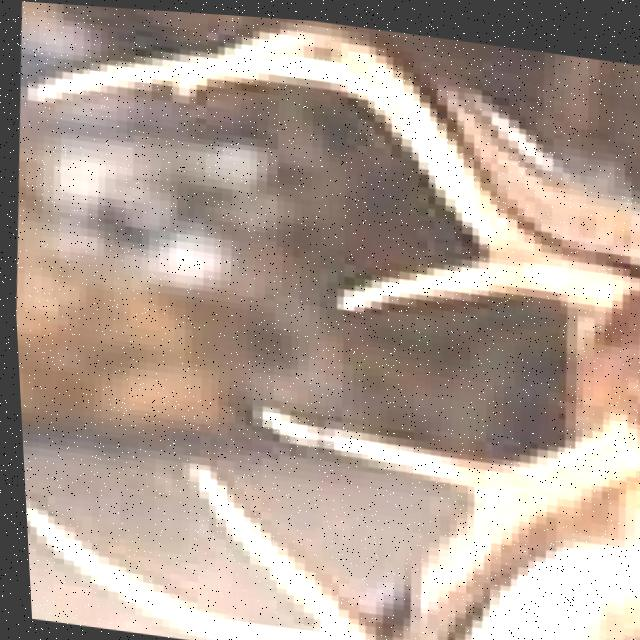L-F: (159, 14, 640, 322)
L-G1: (327, 245, 529, 311)
R-F: (20, 396, 640, 640)
R-G1: (241, 398, 511, 488)
R-G2: (173, 458, 374, 621)
